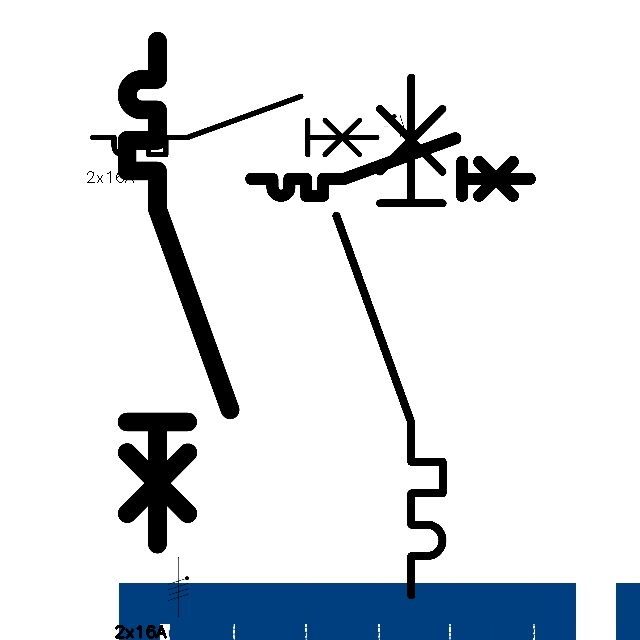interruptor_termomagnetico: (323, 64, 456, 609), (114, 28, 243, 557), (85, 89, 384, 162), (244, 131, 537, 203)
